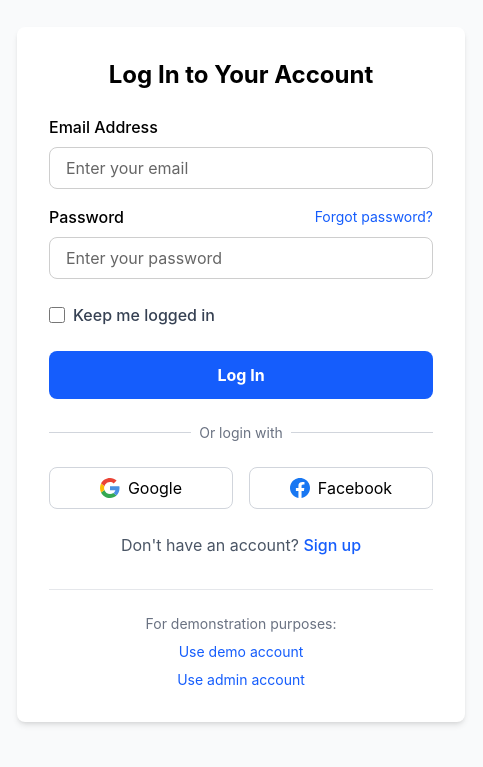
Test: Login Page › shows validation errors for missing fields
This screenshot has width=483, height=767.
Note: Submit form without entering data
Click the button "Log In". click: (241, 374)
box: [49,350,433,398]
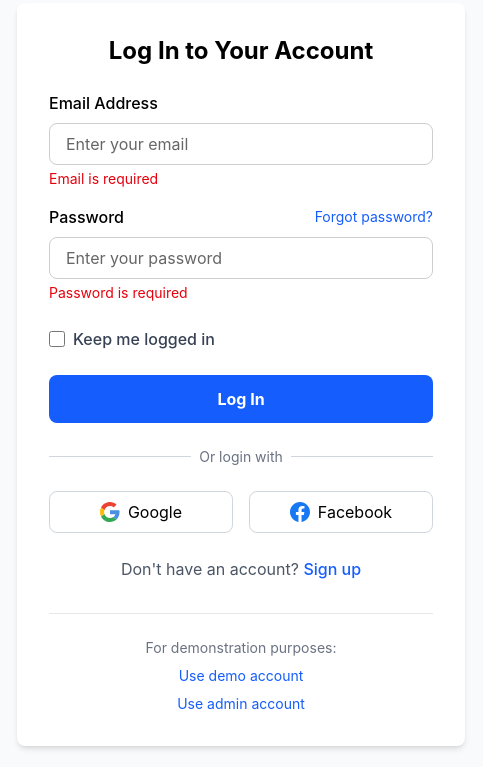
expect the text "Email is required" is shown: met, box [49,170,158,186]
expect the text "Password is required" is shown: met, box [49,284,188,300]
